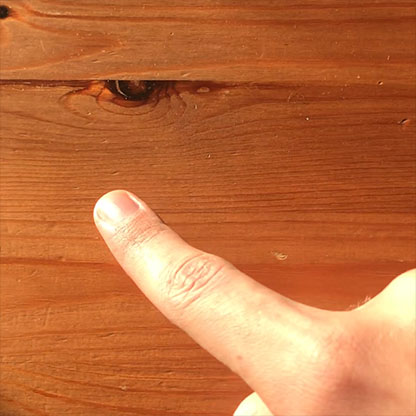fingertip: (89, 181, 159, 240)
